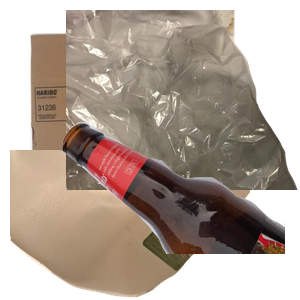cardboard: (28, 31, 249, 195)
glass: (60, 120, 300, 300)
plastic: (10, 150, 250, 300)
trash: (66, 10, 300, 190)
